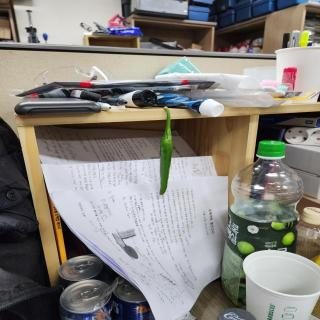Cabai Hijau: (154, 101, 176, 206)
